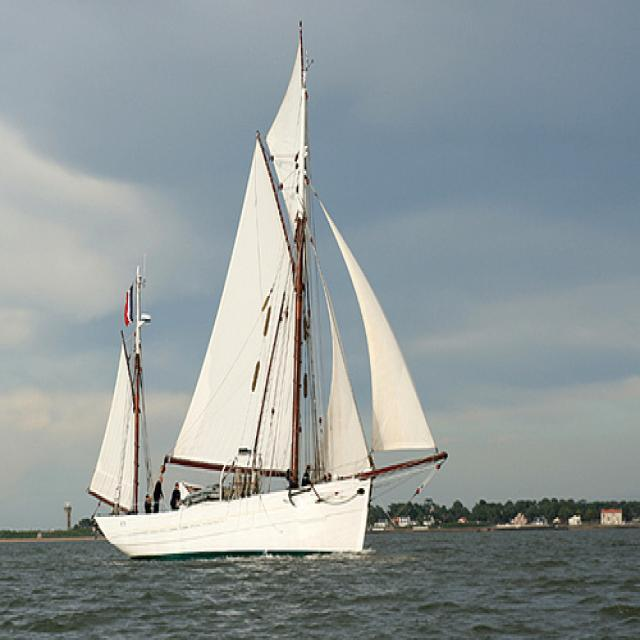Ship: (96, 29, 445, 567)
